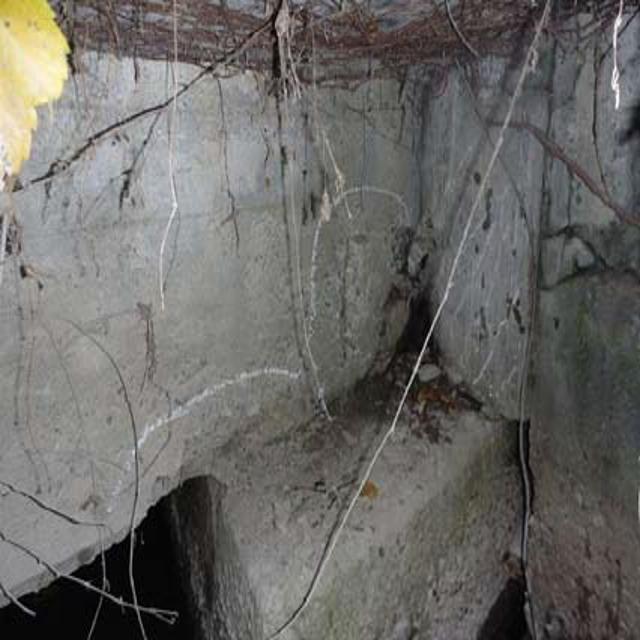spalling: (296, 247, 448, 427)
